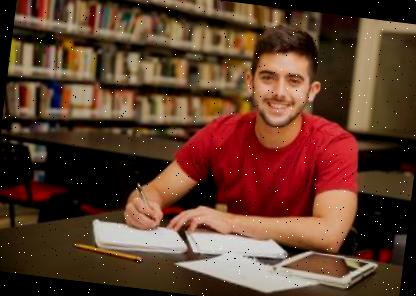person: (128, 7, 384, 268)
